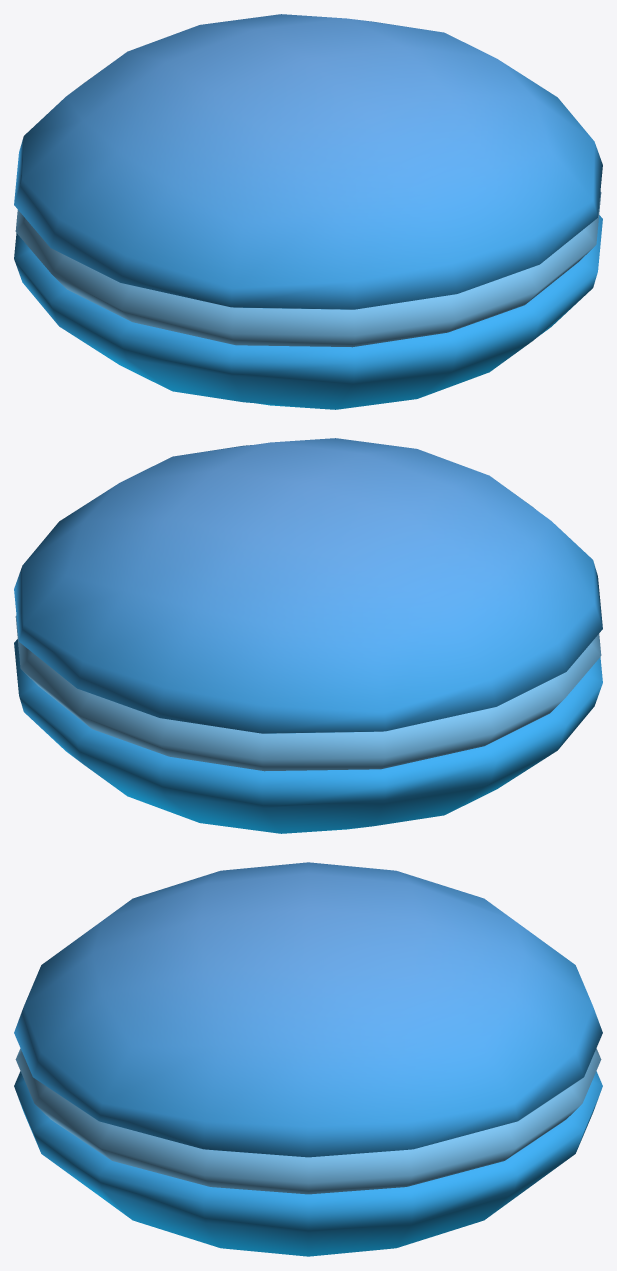
The model's file is cookie_008.fbx.
The picture shows the model from 3 angles, top to bottom: view 1: azimuth 30°, elevation 25°; view 2: azimuth 150°, elevation 25°; view 3: azimuth 270°, elevation 25°; orthographic projection.
Parts seen in each view (by area): view 1: cookie_008; view 2: cookie_008; view 3: cookie_008.
Part boxes in pixels (x1=…): cookie_008: x1=14, y1=14, x2=602, y2=409; cookie_008: x1=14, y1=438, x2=602, y2=833; cookie_008: x1=14, y1=862, x2=602, y2=1256.
Bounding box in the file's own units: 5.37 × 5.37 × 3.02.
